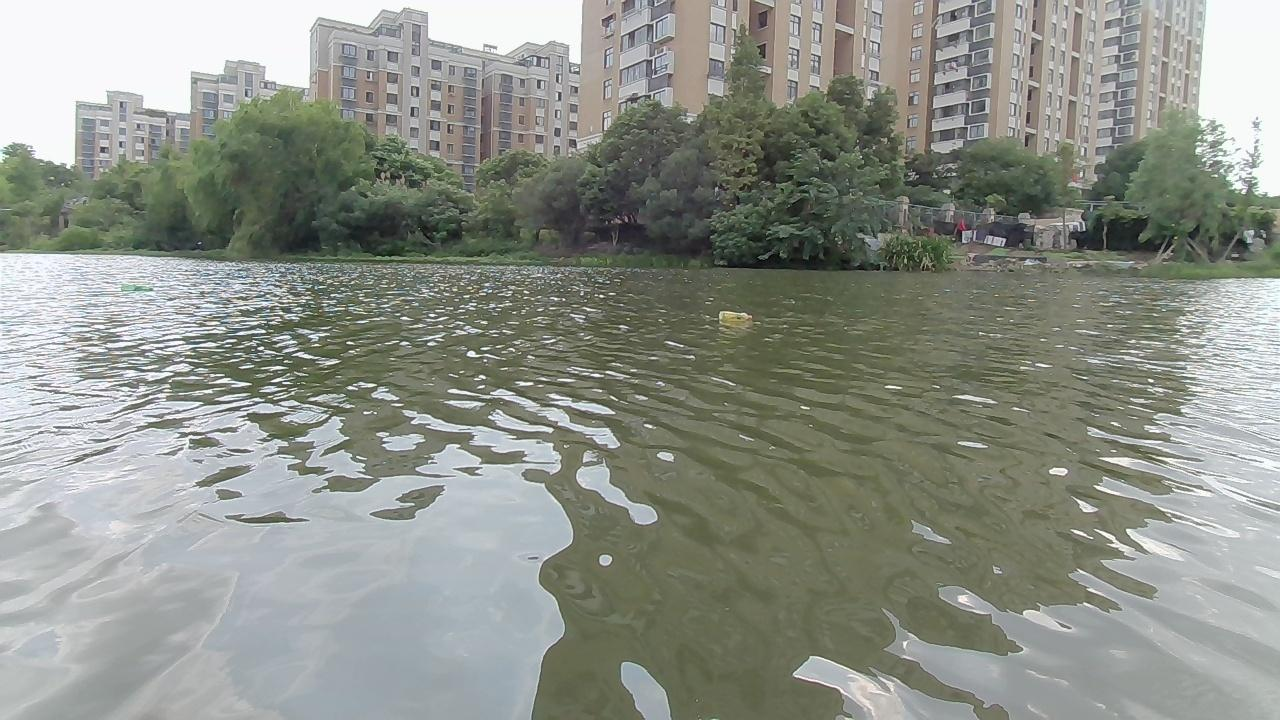bottle: (715, 310, 757, 323), (117, 284, 155, 295)
